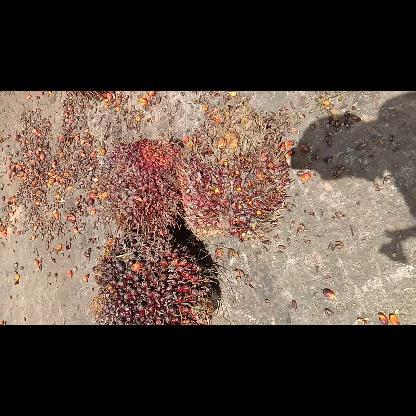Kurang masak: (183, 103, 291, 240)
TBS masak: (91, 234, 221, 324), (104, 137, 182, 241)
